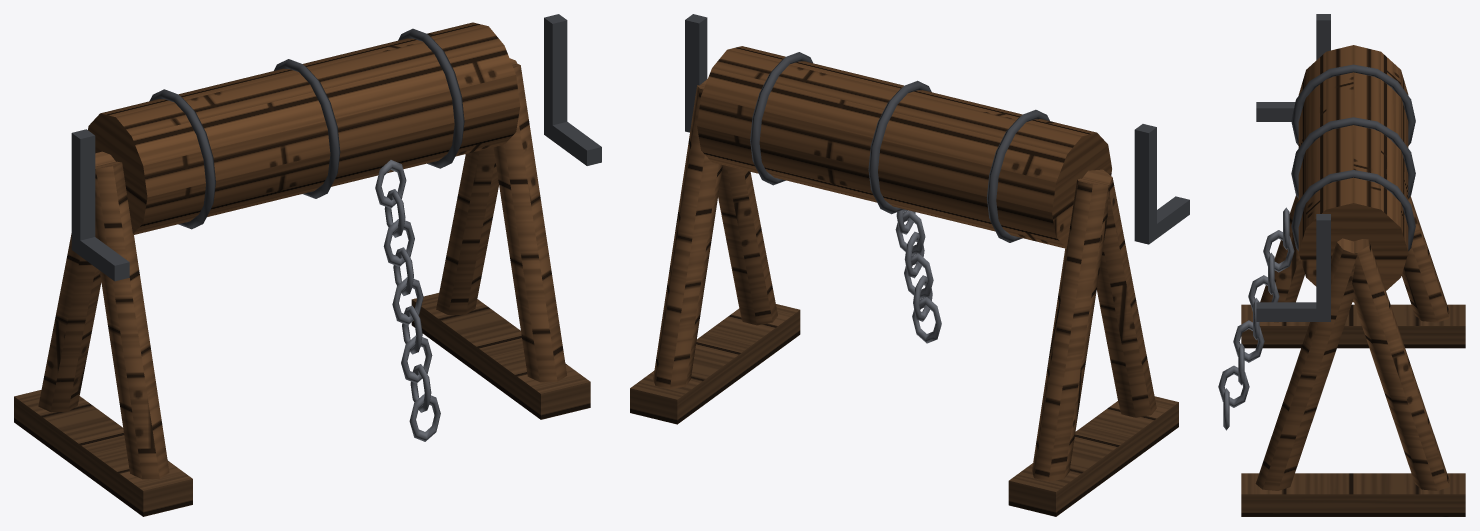
Rendered from winde.glb.
3 views of the same model, side by side, from view 1: azimuth 30°, elevation 25°; view 2: azimuth 150°, elevation 25°; view 3: azimuth 270°, elevation 25° (orthographic). The views are drawn at different scales.
Visible parts, largest first — view 1: modell; view 2: modell; view 3: modell.
Part boxes in pixels (bbox=[...]): modell: bbox=[14, 14, 601, 516]; modell: bbox=[630, 14, 1189, 516]; modell: bbox=[1218, 14, 1465, 516].
Bounding box in the file's own units: 1.96 × 1.37 × 0.993.
2 materials, 1 textured.
